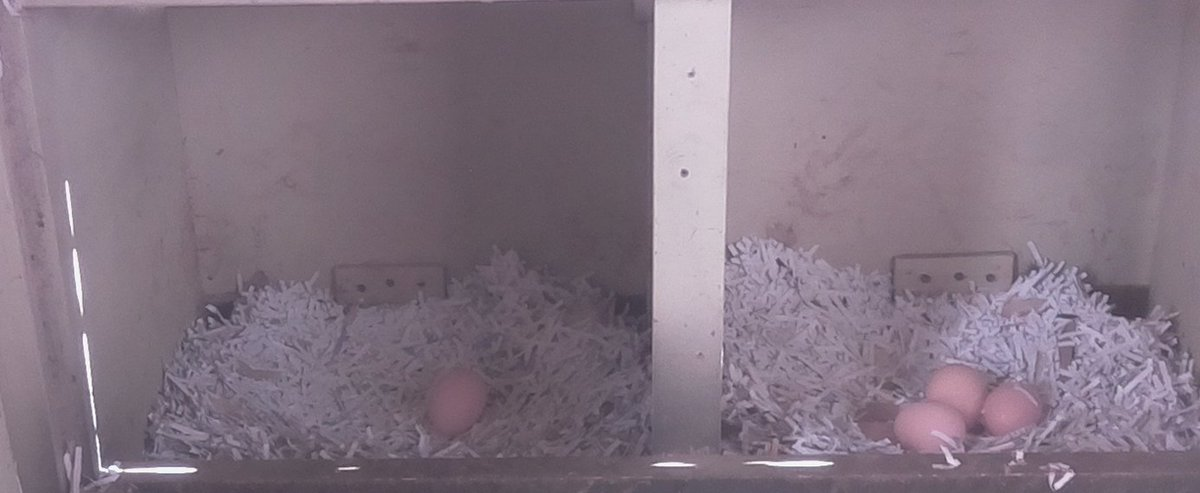egg: (980, 376, 1052, 444), (427, 367, 493, 440), (919, 363, 993, 426), (892, 399, 971, 454)
